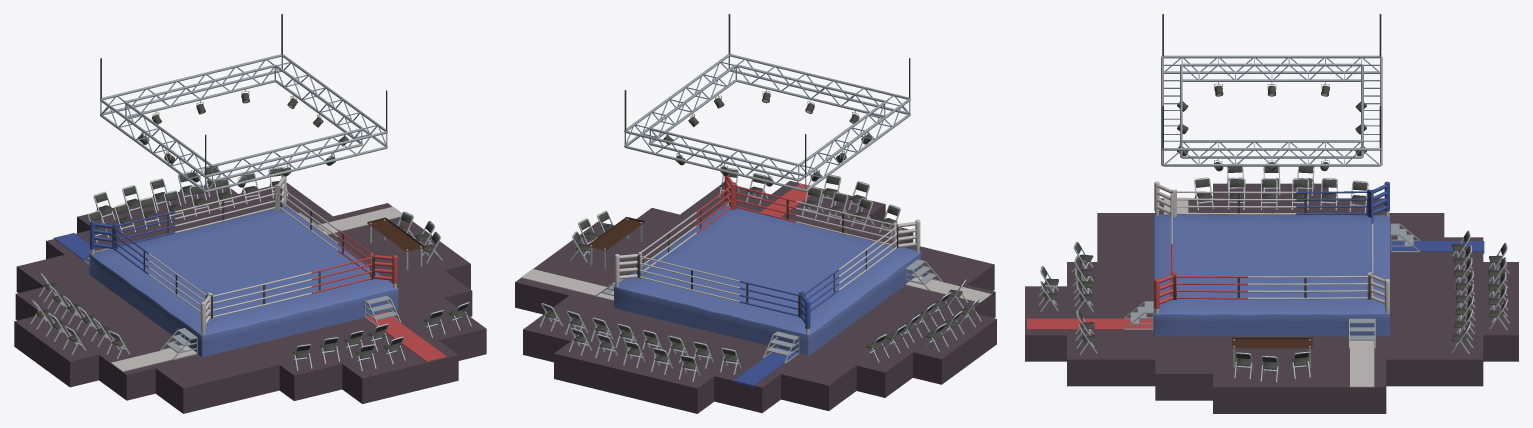
File: B_ring.fbx
The picture shows the model from 3 angles, left to right: view 1: azimuth 30°, elevation 25°; view 2: azimuth 150°, elevation 25°; view 3: azimuth 270°, elevation 25°; orthographic projection. The views are drawn at different scales.
Parts seen in each view (by area): view 1: Plane.037, Cube.130, Cube.303, Cylinder.634, BezierCurve.013, Cube.299, Cube.293, Cylinder.261, Cube.136, Cube.132, Cube.131; view 2: Plane.037, Cube.130, Cube.303, Cylinder.634, BezierCurve.013, Cube.299, Cube.293, Cylinder.261, Cube.136, Cube.131, Cube.134; view 3: Plane.037, Cube.130, Cube.303, Cylinder.634, BezierCurve.013, Cube.299, Cylinder.261, Cube.293, Cube.136, Cube.134, Cube.132, Cube.133.
Boxes of the visible parts, x1,y1,x2,y2 form: Plane.037: (14, 183, 486, 413); Cube.130: (89, 206, 398, 356); Cube.303: (30, 166, 471, 371); Cylinder.634: (100, 54, 387, 192); BezierCurve.013: (112, 186, 374, 317); Cube.299: (53, 206, 446, 371); Cube.293: (100, 57, 387, 190); Cylinder.261: (90, 174, 397, 334); Cube.136: (367, 217, 424, 251); Cube.132: (364, 295, 401, 326); Cube.131: (160, 328, 197, 360); Plane.037: (515, 181, 996, 413); Cube.130: (613, 205, 921, 355); Cube.303: (539, 167, 981, 381); Cylinder.634: (624, 54, 910, 191); BezierCurve.013: (637, 185, 897, 316); Cube.299: (521, 183, 991, 387); Cube.293: (624, 56, 910, 189); Cylinder.261: (614, 174, 920, 333); Cube.136: (588, 217, 644, 250); Cube.131: (905, 259, 942, 291); Cube.134: (763, 331, 799, 363); Plane.037: (1025, 183, 1518, 413); Cube.130: (1153, 214, 1389, 336); Cube.303: (1038, 163, 1509, 382); Cylinder.634: (1161, 55, 1382, 166); BezierCurve.013: (1171, 191, 1373, 299); Cube.299: (1027, 197, 1484, 387); Cylinder.261: (1154, 181, 1389, 313); Cube.293: (1162, 57, 1381, 164); Cube.136: (1232, 337, 1312, 348); Cube.134: (1390, 223, 1420, 252); Cube.132: (1123, 301, 1153, 329); Cube.133: (1349, 318, 1375, 348).
Bounding box in the file's own units: 5524 × 3195 × 5658.
